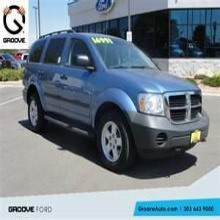no damage: (23, 30, 210, 171)
